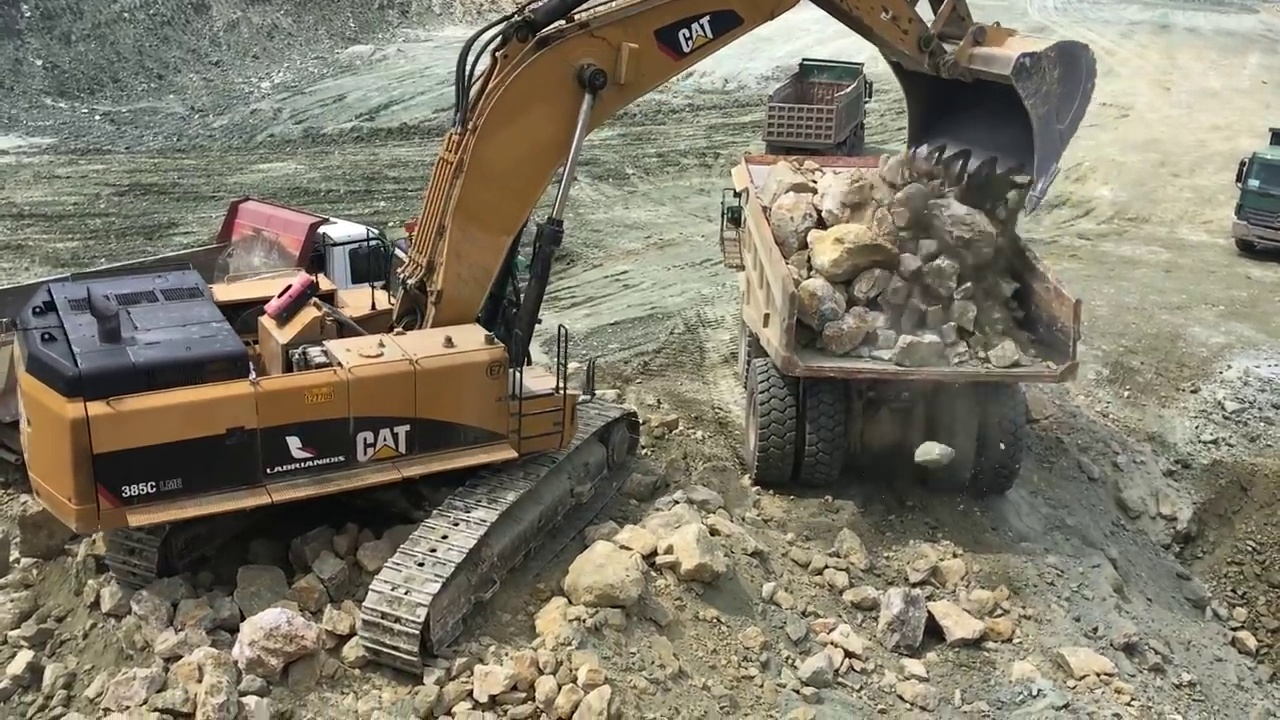dumper: (719, 149, 1085, 510)
excavator: (12, 8, 1101, 679)
truck: (766, 57, 872, 149), (1234, 126, 1280, 260)
